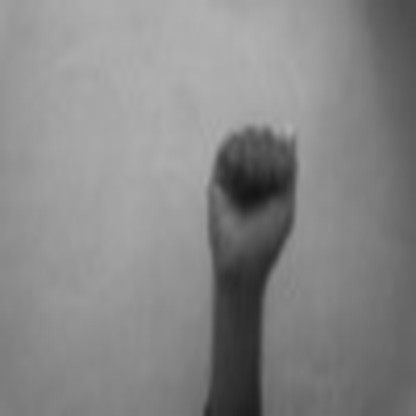a: (198, 117, 309, 281)
